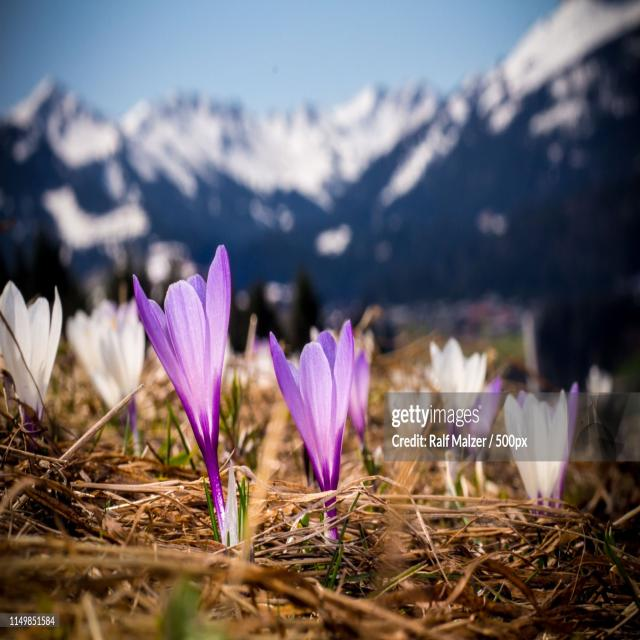saffron open: (134, 246, 231, 538), (270, 321, 354, 491), (0, 281, 62, 420)
